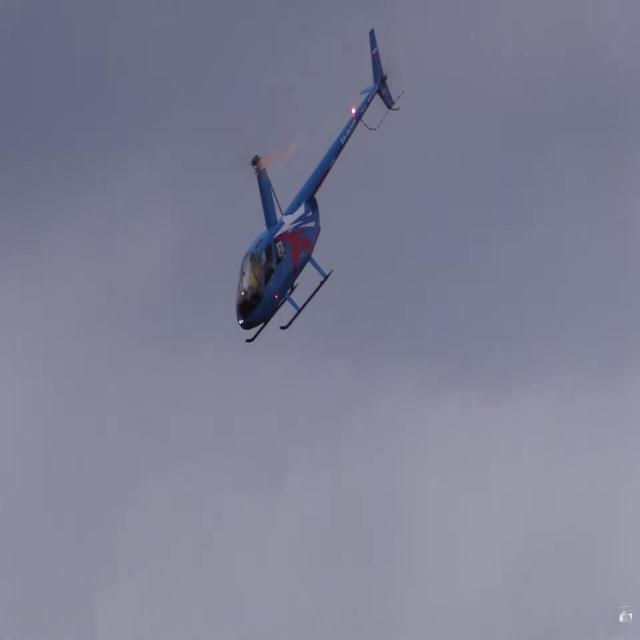CIV_HELO: (233, 24, 395, 347)
